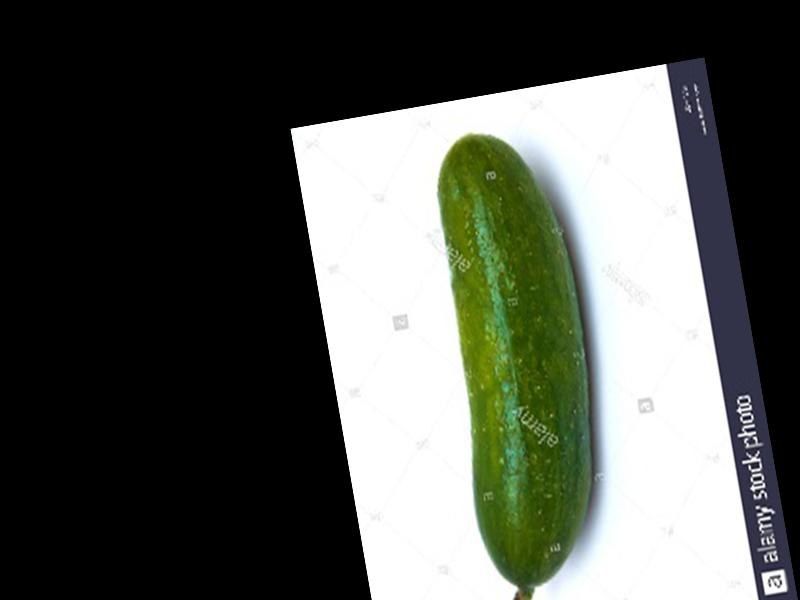Cucumber: (411, 119, 629, 600)
